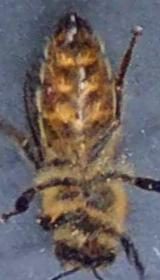varroa_mite: (37, 78, 59, 108)
